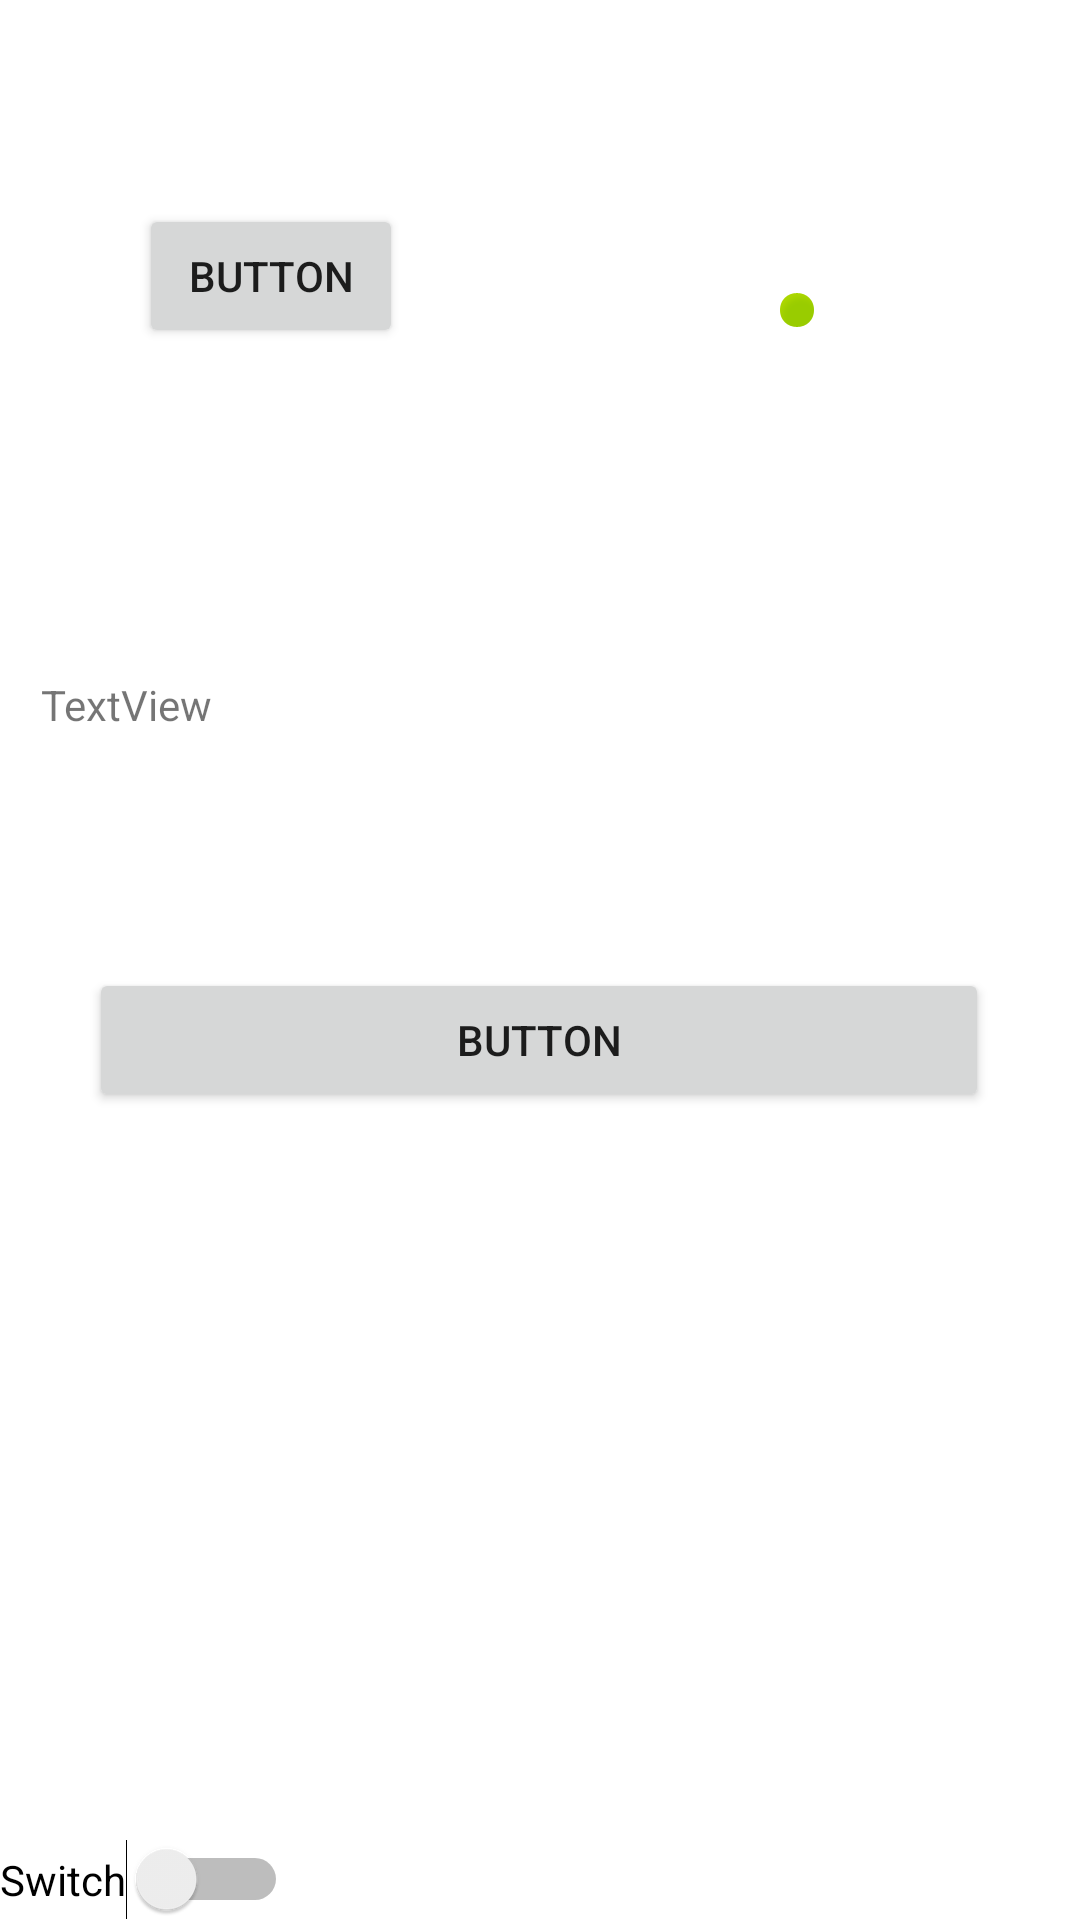

Where icons sit on this 1080px×1920px app screen, as (x1, y1, x2, y2):
presence online: (780, 293, 814, 327)
